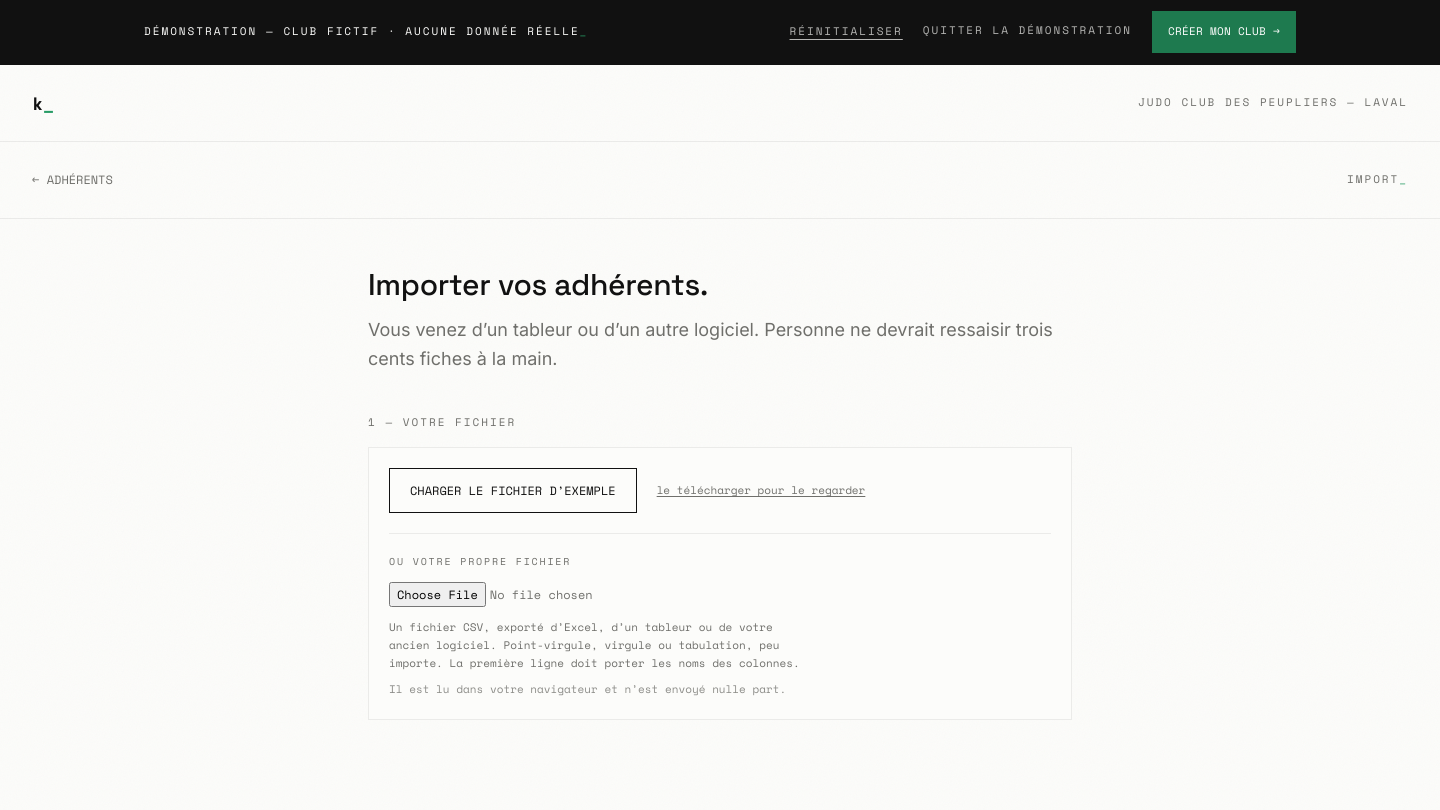
Test: la lecture du fichier › reconnaît « Adresse email », « Portable » et « Activité »
Click the button "CHARGER LE FICHIER D’EXEMPLE".
click(513, 491)  # box [389,468,637,513]
(page scrolled)
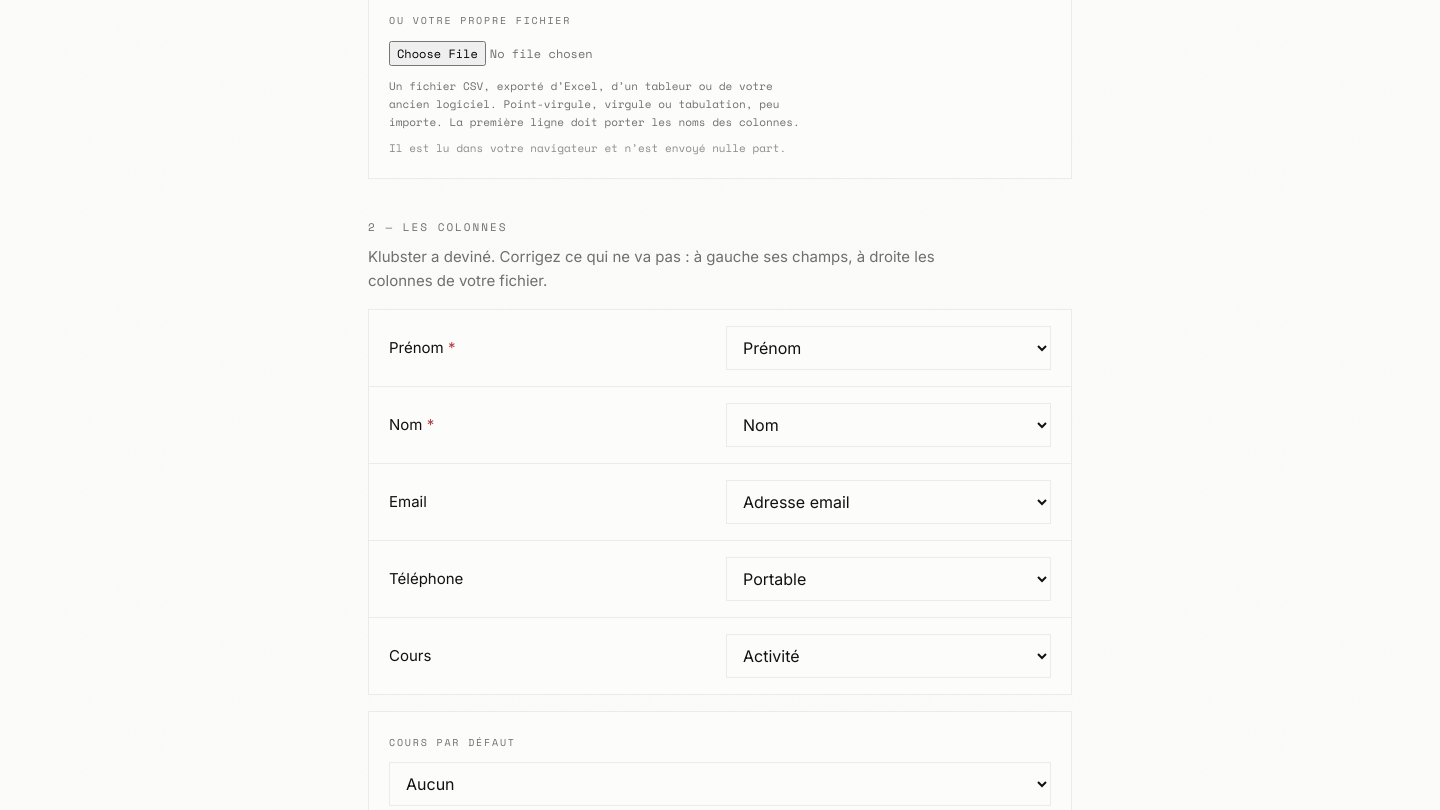
Result: the dropdown labelled "Email" shows "Adresse email" at [726,480,1051,524]
Result: the dropdown labelled "Téléphone" shows "Portable" at [726,557,1051,601]
Result: the dropdown labelled "Cours" shows "Activité" at [726,634,1051,678]
